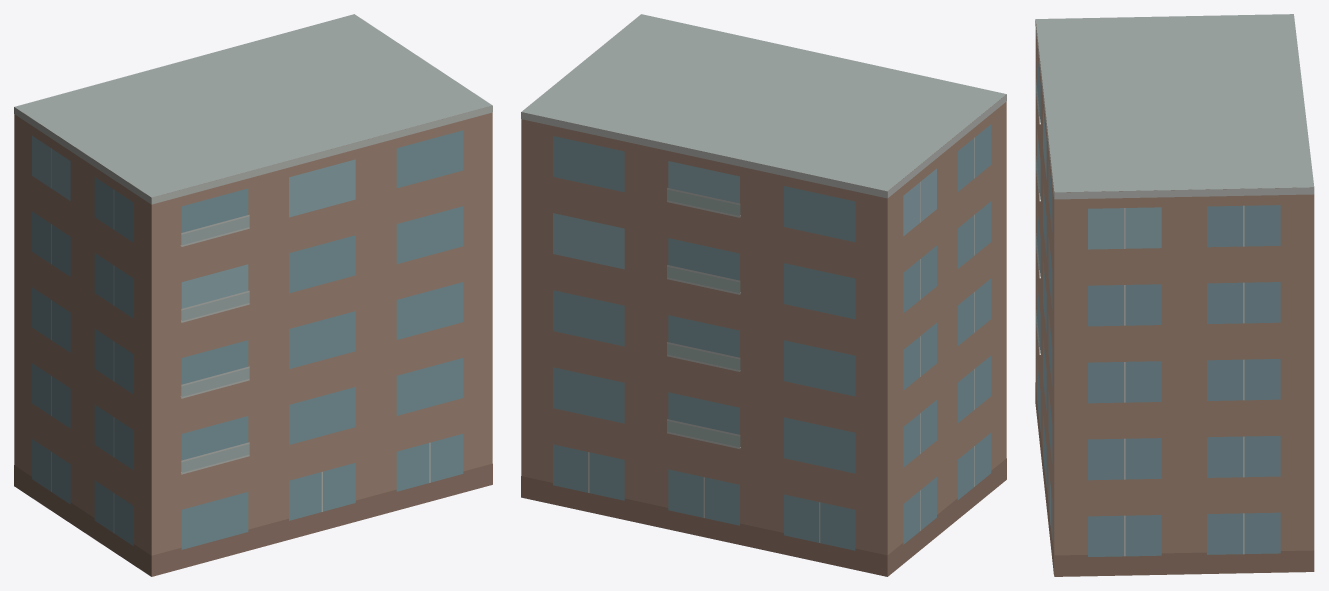
File: survey-upis-32893395.glb
The picture shows the model from 3 angles, left to right: view 1: azimuth 30°, elevation 25°; view 2: azimuth 150°, elevation 25°; view 3: azimuth 270°, elevation 25°; orthographic projection.
Visible parts, largest first — view 1: survey-upis-32893395.tmp; view 2: survey-upis-32893395.tmp; view 3: survey-upis-32893395.tmp.
Part boxes in pixels (x1,y1,x2,y2): survey-upis-32893395.tmp: [14, 14, 492, 576]; survey-upis-32893395.tmp: [521, 14, 1006, 576]; survey-upis-32893395.tmp: [1035, 14, 1314, 576].
Bounding box in the file's own units: 13.14 × 13.2 × 8.68.
